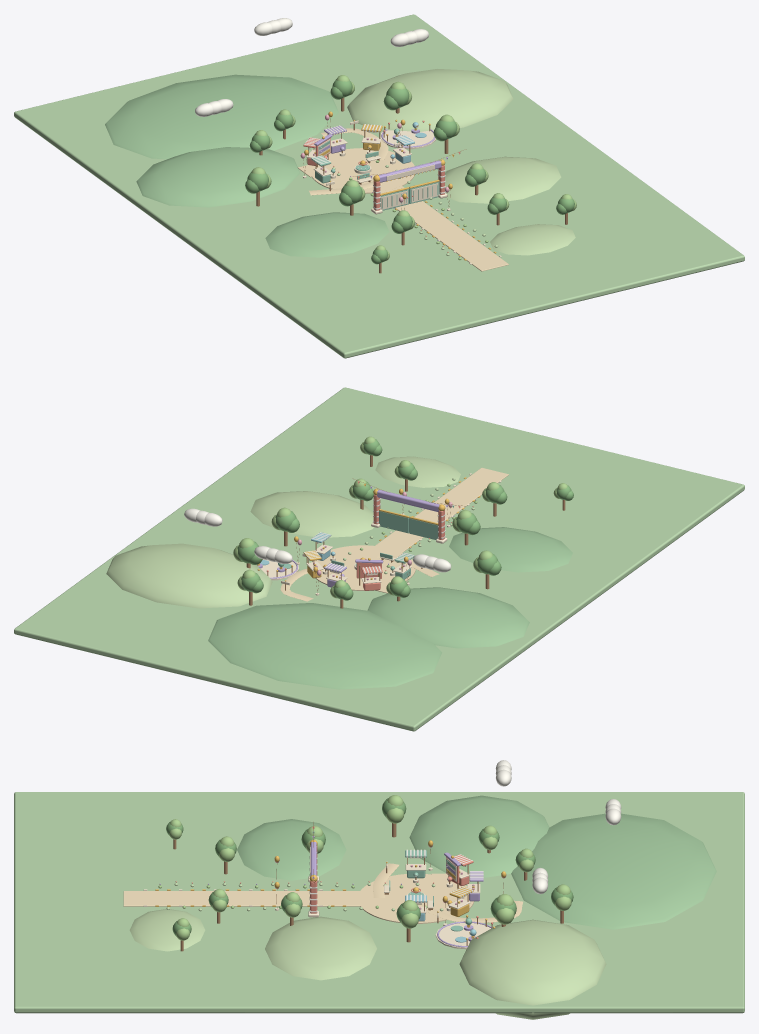
File: landing-world.glb
3 renders of one model, top to bottom at view 1: azimuth 30°, elevation 25°; view 2: azimuth 150°, elevation 25°; view 3: azimuth 270°, elevation 25°, orthographic. The views are drawn at different scales.
Parts seen in each view (by area): view 1: TokenCarnivalWorld; view 2: TokenCarnivalWorld; view 3: TokenCarnivalWorld.
Part boxes in pixels (x1=…): TokenCarnivalWorld: x1=14, y1=14, x2=744, y2=358; TokenCarnivalWorld: x1=14, y1=387, x2=744, y2=731; TokenCarnivalWorld: x1=14, y1=760, x2=744, y2=1019.
Size of the model in its own units: 70 by 19 by 100.
